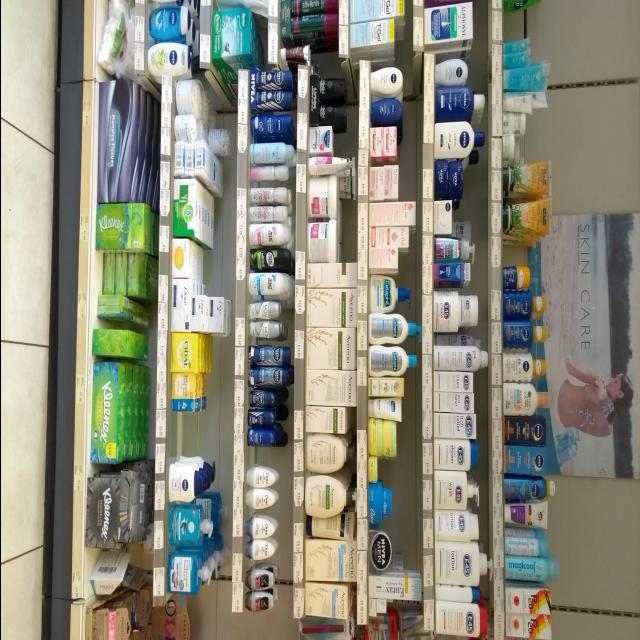empty_space: (173, 408, 205, 458), (502, 15, 532, 37), (501, 245, 527, 265), (249, 449, 274, 463)
